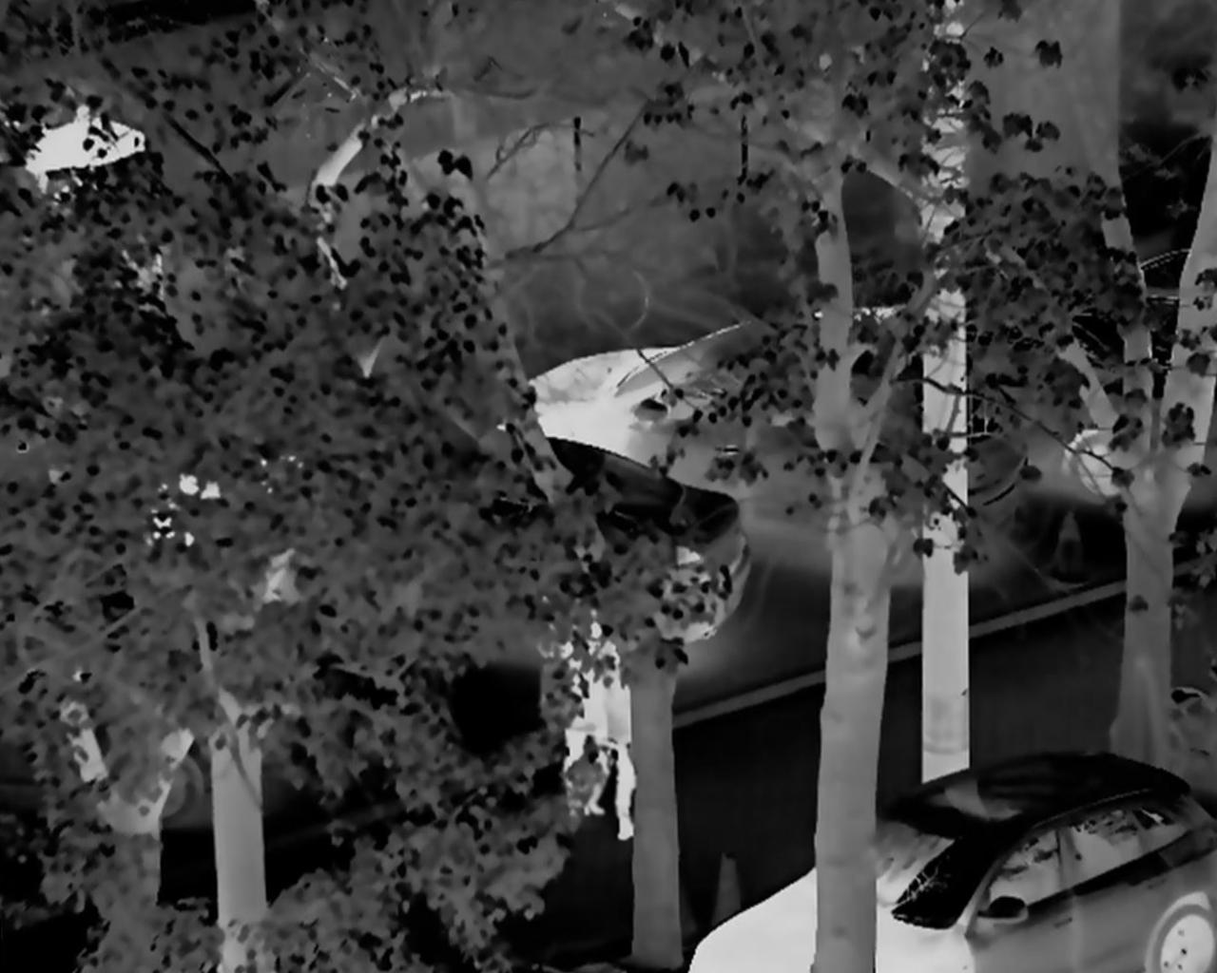person: (551, 628, 613, 826), (597, 647, 644, 837)
